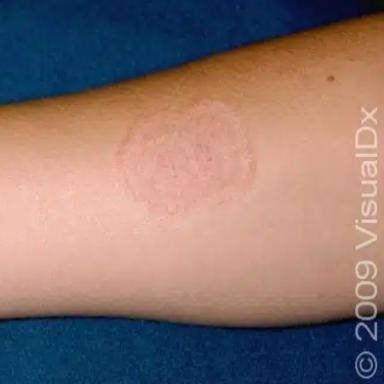Tinea-Corporis: (114, 96, 256, 219)
